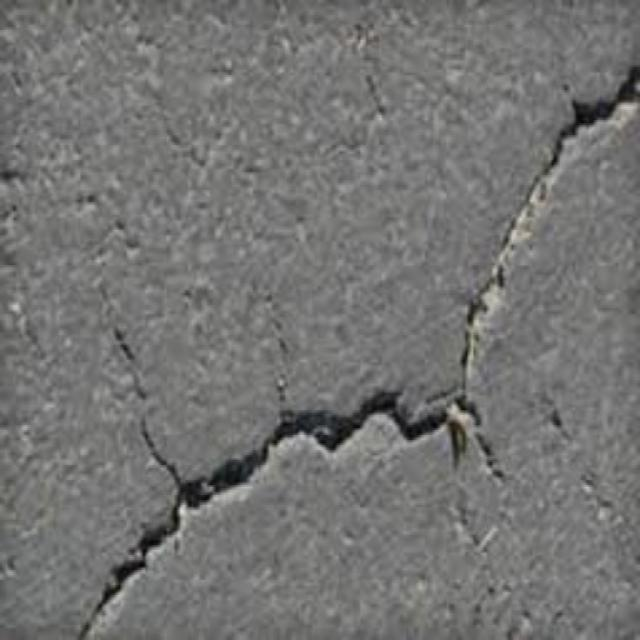crack: (75, 381, 509, 636), (459, 61, 639, 393), (104, 298, 183, 485)
